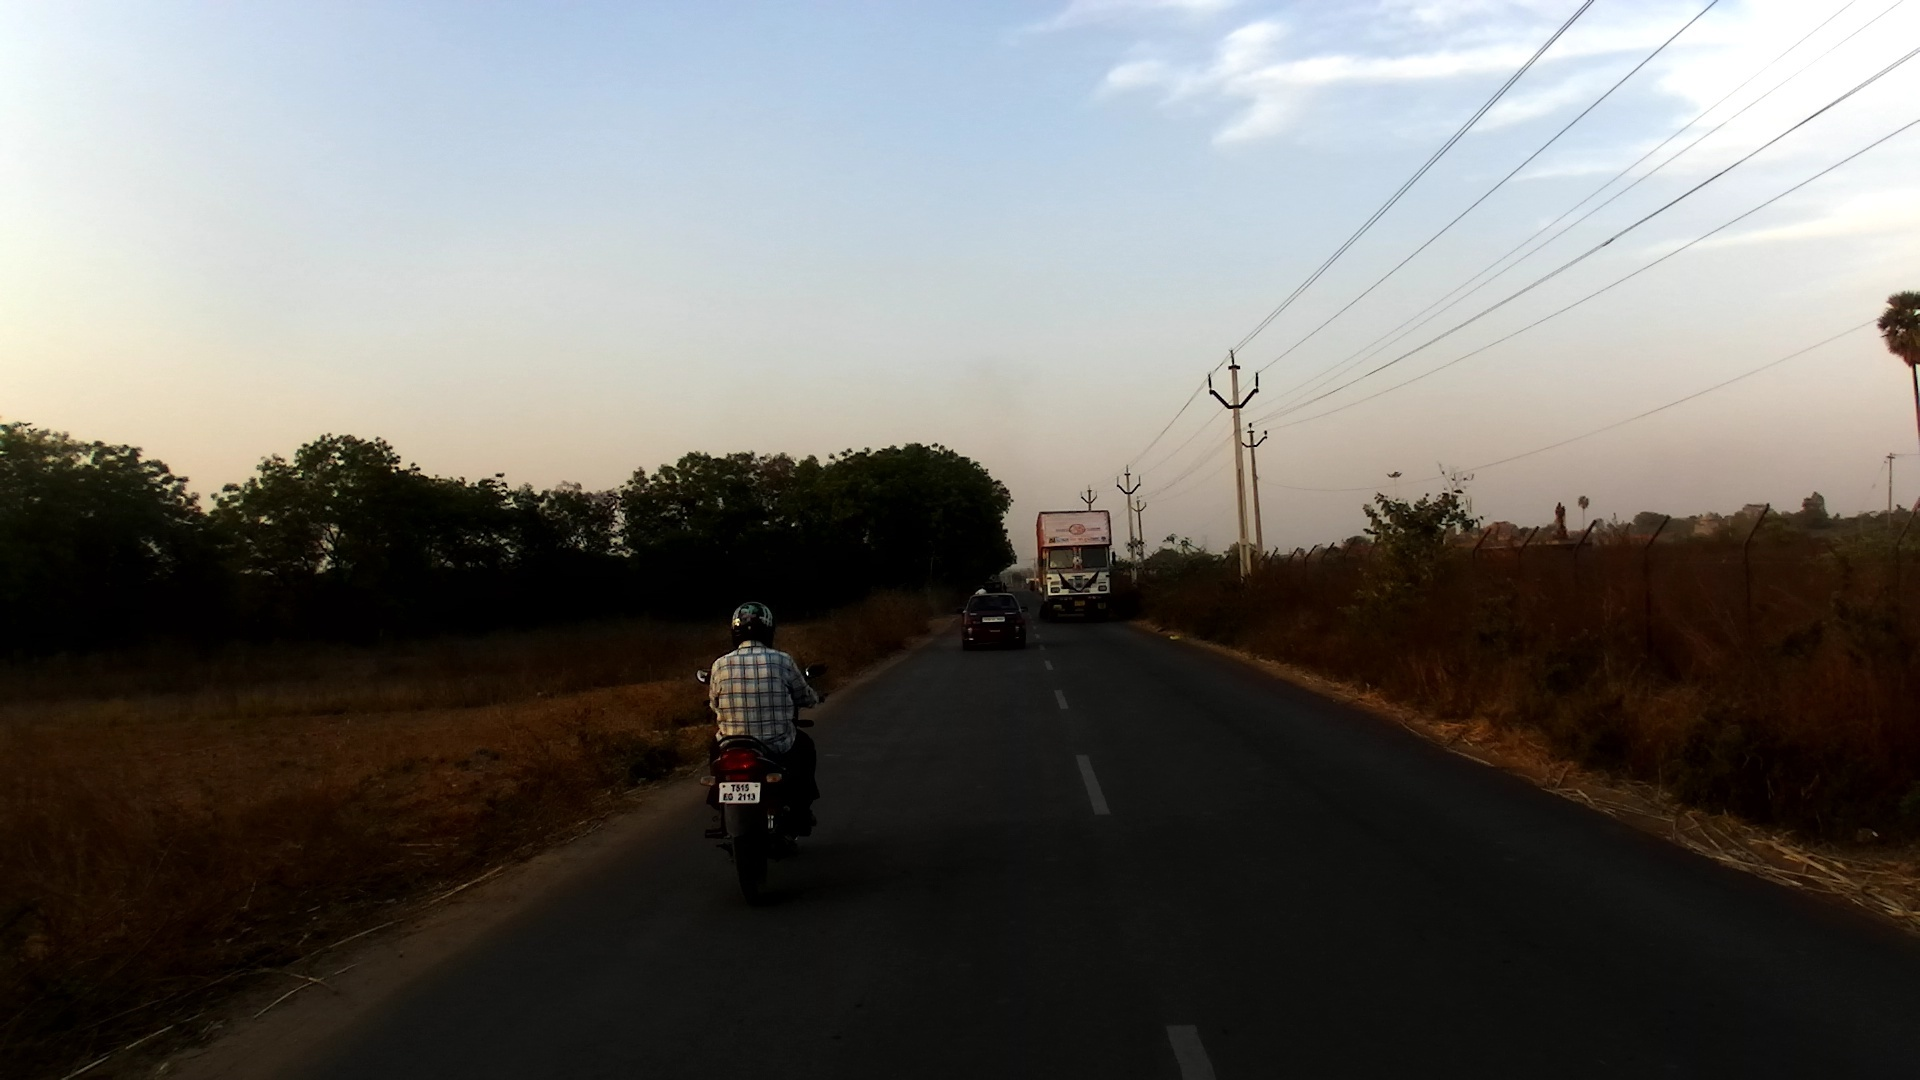car: (954, 592, 1031, 655)
motorcycle: (686, 665, 833, 904)
rider: (696, 600, 825, 852), (972, 581, 989, 593)
truck: (1030, 512, 1120, 627)
vehicle fallback: (1024, 578, 1038, 592)
